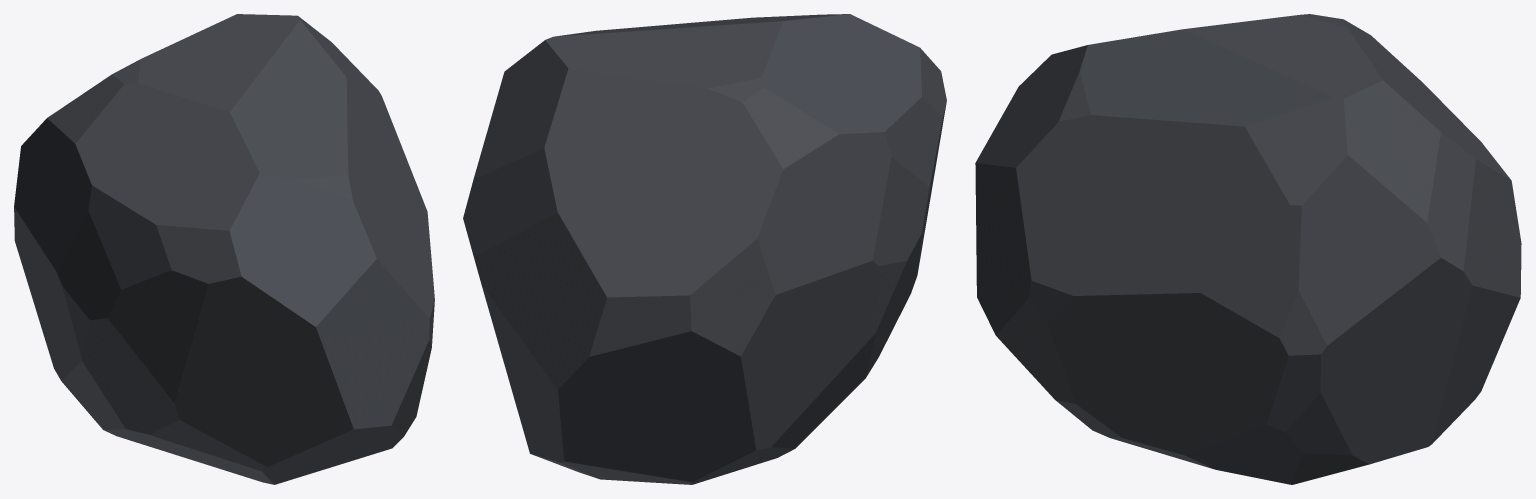
File: rock5.obj
3 renders of one model, left to right at view 1: azimuth 30°, elevation 25°; view 2: azimuth 150°, elevation 25°; view 3: azimuth 270°, elevation 25°, orthographic. The views are drawn at different scales.
Bounding box in the file's own units: 1.82 × 1.83 × 2.32.
Materials: 1 (1 with a texture image).
